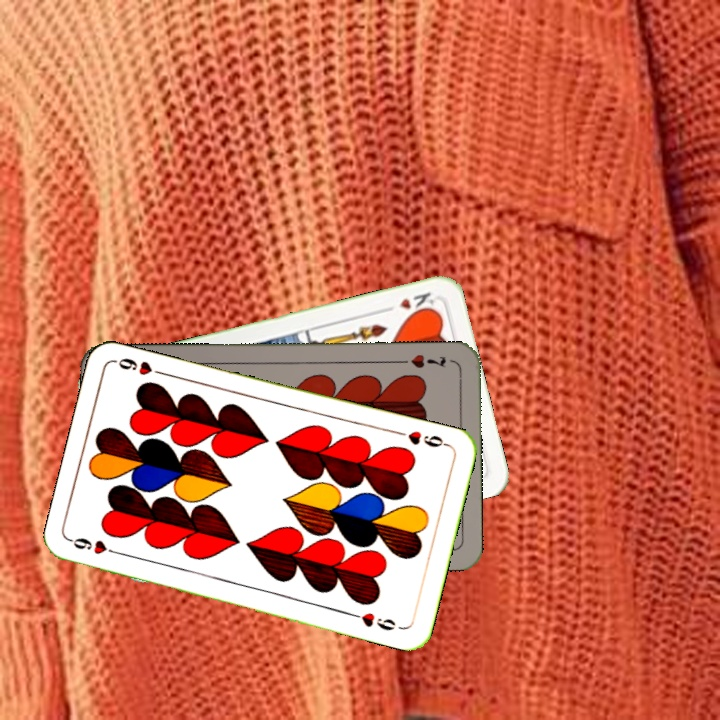H7: (395, 350, 448, 371)
H9: (67, 533, 126, 558), (393, 426, 452, 450)
HK: (379, 288, 440, 317)
